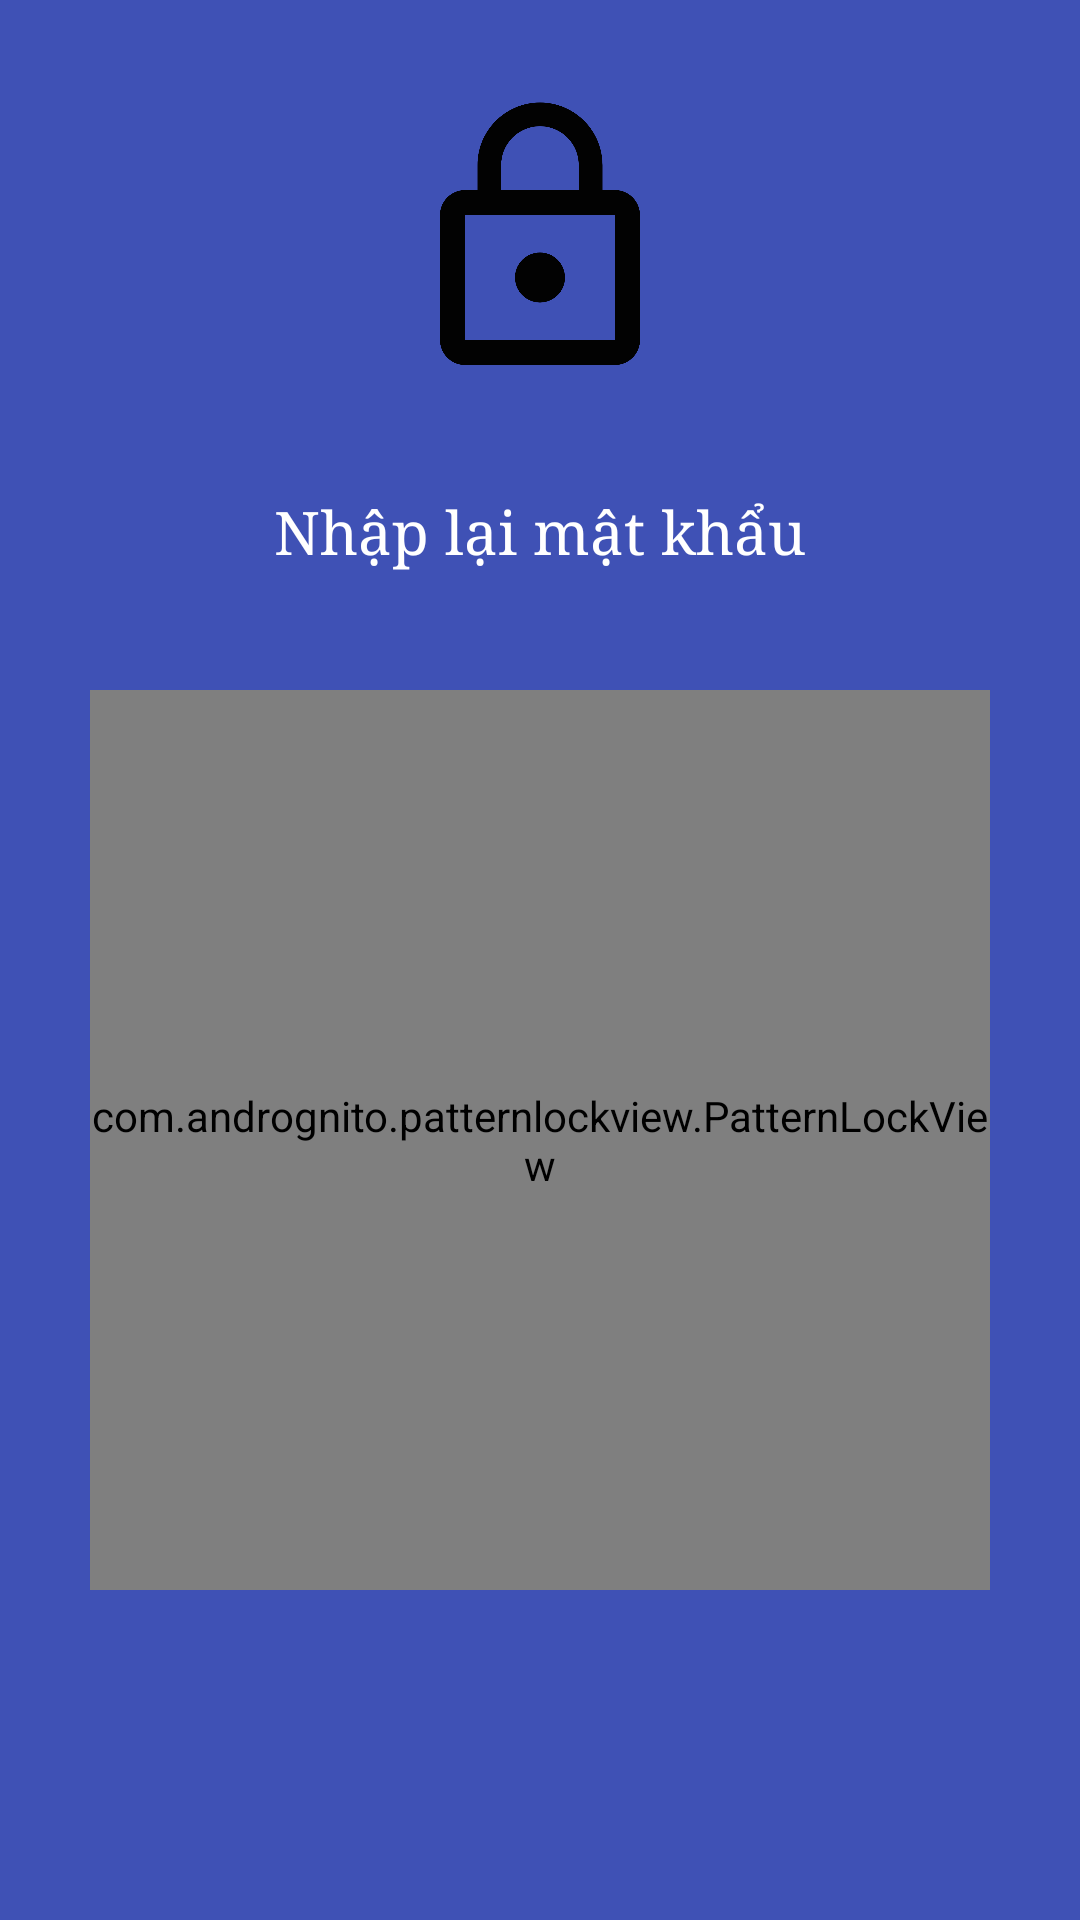

Screen size 1080x1920. Icon name, then its box in pixels as [x1,y1,x2,y2]:
lock: [440,102,640,365]
